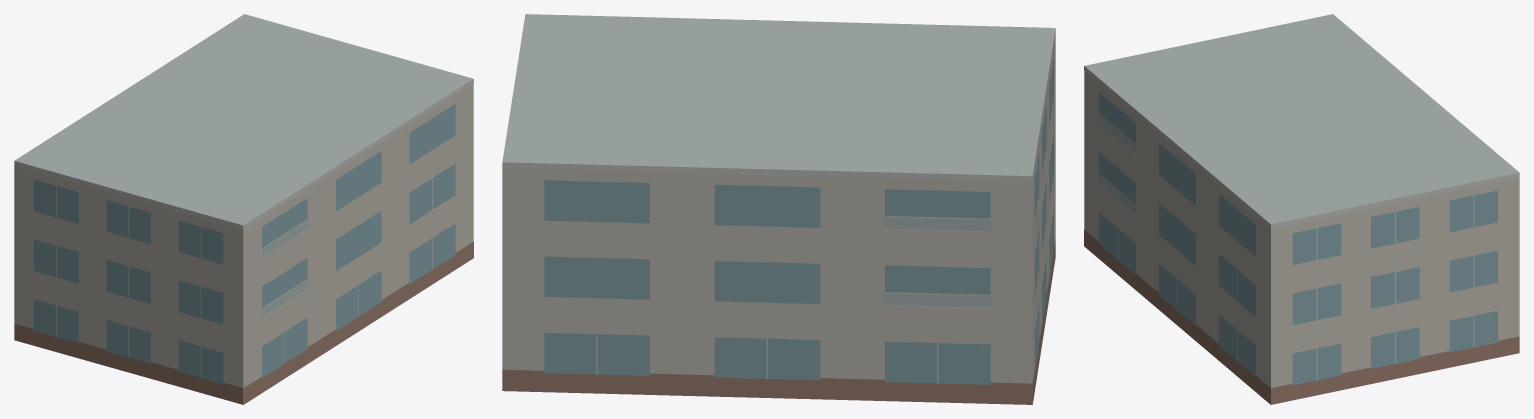
Rendered from survey-upis-32773209.glb.
3 renders of one model, left to right at view 1: azimuth 30°, elevation 25°; view 2: azimuth 150°, elevation 25°; view 3: azimuth 270°, elevation 25°, orthographic. The views are drawn at different scales.
Visible parts, largest first — view 1: survey-upis-32773209.tmp; view 2: survey-upis-32773209.tmp; view 3: survey-upis-32773209.tmp.
Boxes of the visible parts, x1,y1,x2,y2 form: survey-upis-32773209.tmp: (14, 14, 473, 404); survey-upis-32773209.tmp: (502, 14, 1055, 404); survey-upis-32773209.tmp: (1084, 14, 1519, 404).
Size of the model in its own units: 22.89 by 9.15 by 20.02.
